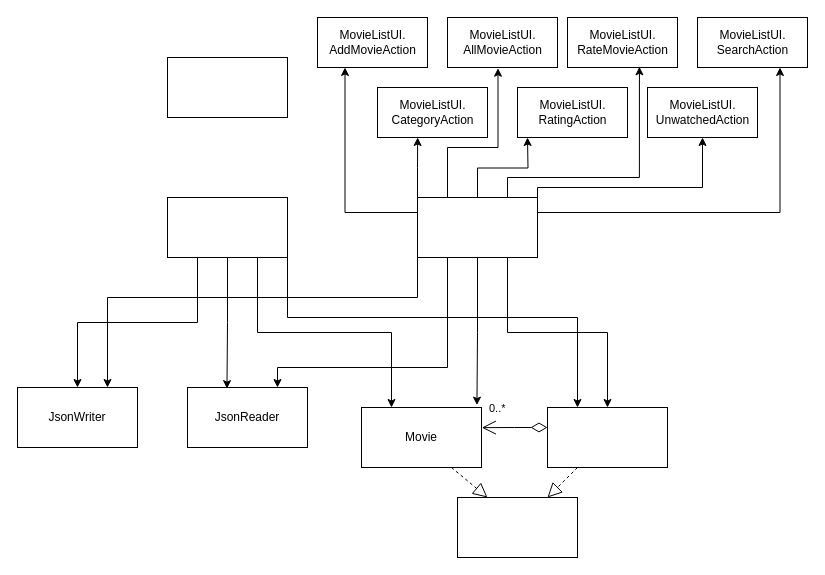
The diagram is 825 pixels wide and 575 high, and some of its shapes have lost their labels. Here are the shapes that lost their labels. From the top down, the centre of each, then its label:
[227,87]: Main
[227,227]: MovieListApp
[477,227]: MovieListUI
[607,437]: MovieList
[517,527]: <<Interface>> Writable
